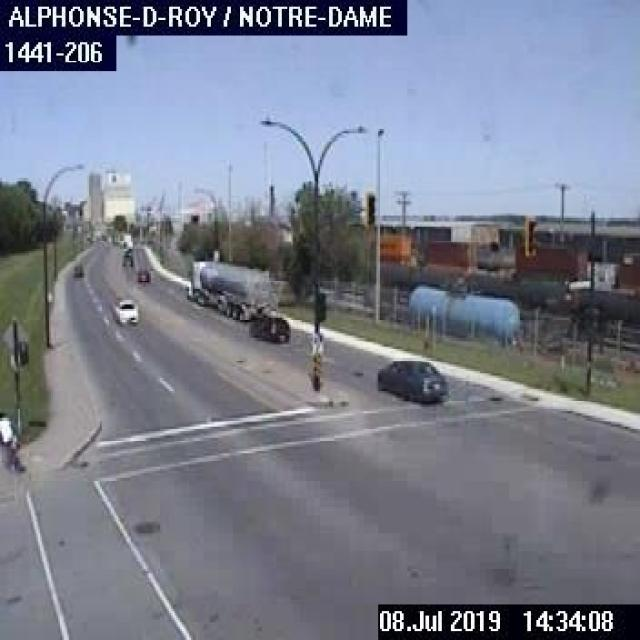pedestrian: (0, 411, 25, 471)
vehicle: (185, 258, 276, 320), (372, 356, 443, 402), (245, 310, 289, 343), (113, 296, 138, 322), (118, 247, 133, 264), (135, 267, 149, 282), (71, 262, 84, 278)
